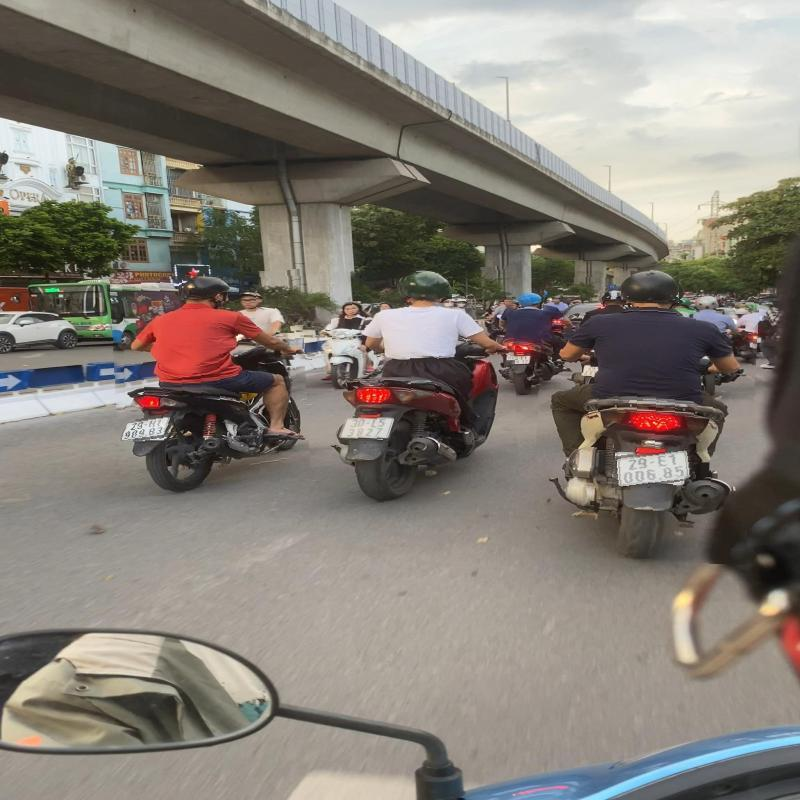helmet: (620, 270, 679, 304), (400, 271, 452, 302), (182, 276, 240, 301)
licenseplate: (612, 447, 694, 488), (114, 416, 176, 442), (338, 415, 397, 440)
motorcyclist: (534, 262, 758, 563), (332, 268, 518, 503), (112, 272, 308, 495)
